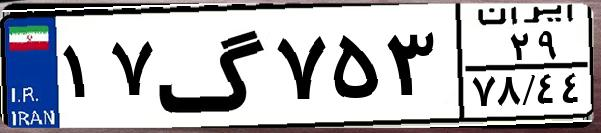1: (57, 26, 110, 100)
2: (508, 27, 537, 80)
3: (385, 28, 445, 110)
4: (560, 70, 590, 125), (535, 70, 560, 125)
5: (330, 28, 385, 110)
7: (270, 28, 330, 110), (110, 28, 156, 98), (470, 70, 495, 125)
8: (495, 70, 520, 125)
9: (537, 27, 568, 80)
گ: (156, 12, 270, 120)
